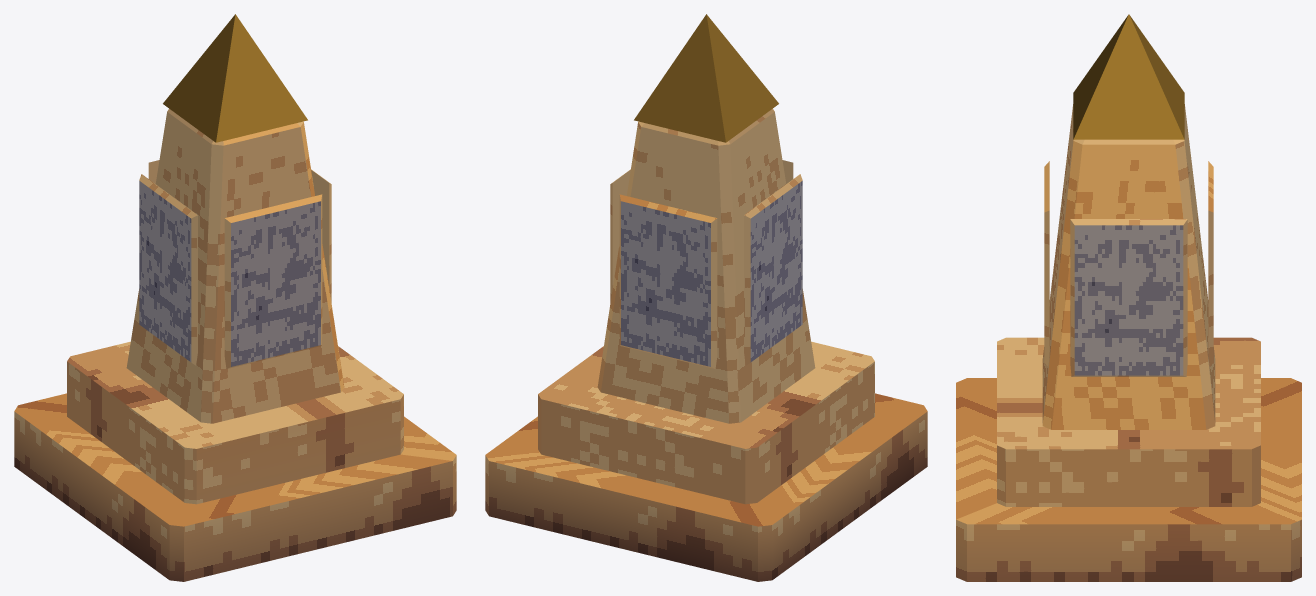
File: ruin.obelisk__short.glb
The picture shows the model from 3 angles, left to right: view 1: azimuth 30°, elevation 25°; view 2: azimuth 150°, elevation 25°; view 3: azimuth 270°, elevation 25°; orthographic projection. The views are drawn at different scales.
Visible parts, largest first — view 1: kit_base, kit_shaft, kit_glyphs, kit_cap; view 2: kit_base, kit_shaft, kit_glyphs, kit_cap; view 3: kit_base, kit_shaft, kit_glyphs, kit_cap.
Boxes of the visible parts, bbox=[...] form: kit_base: bbox=[14, 341, 456, 581]; kit_shaft: bbox=[126, 108, 344, 423]; kit_glyphs: bbox=[139, 160, 331, 368]; kit_cap: bbox=[163, 14, 307, 142]; kit_base: bbox=[485, 341, 927, 581]; kit_shaft: bbox=[597, 108, 815, 423]; kit_glyphs: bbox=[610, 160, 802, 368]; kit_cap: bbox=[634, 14, 778, 142]; kit_base: bbox=[956, 337, 1301, 581]; kit_shaft: bbox=[1042, 104, 1215, 429]; kit_glyphs: bbox=[1044, 161, 1213, 376]; kit_cap: bbox=[1073, 14, 1184, 139].
Size of the model in its own units: 1.9 by 3 by 1.9.
4 materials, 3 textured.
